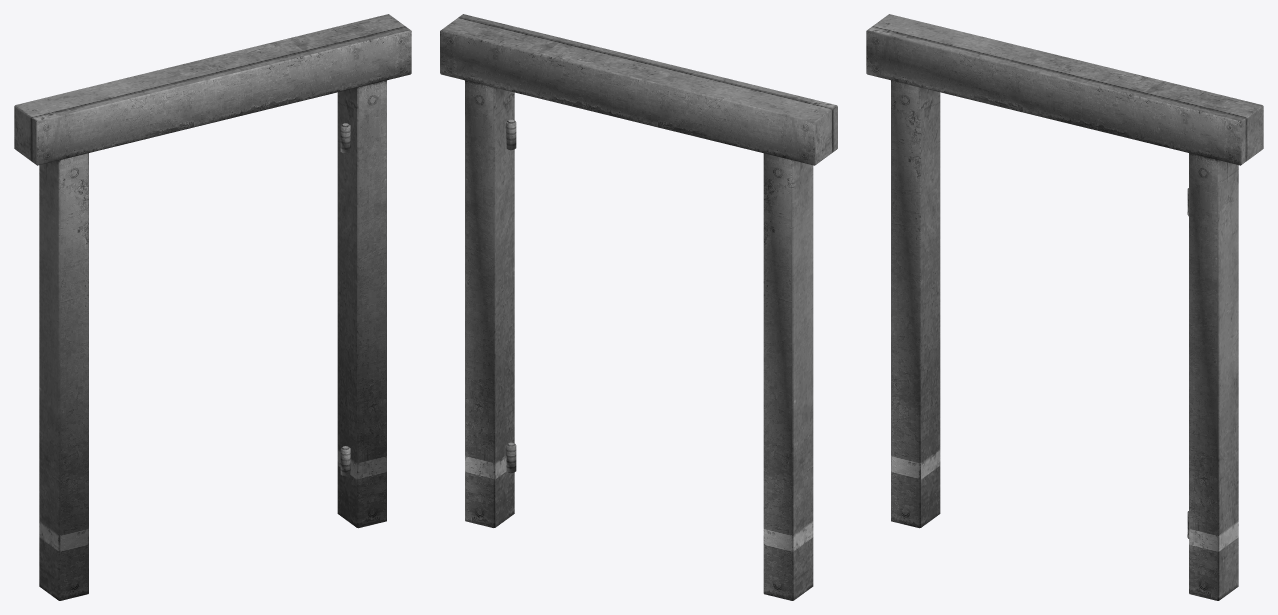
File: swingdoor_metal_flesher_frame.DAE
3 renders of one model, left to right at view 1: azimuth 30°, elevation 25°; view 2: azimuth 150°, elevation 25°; view 3: azimuth 330°, elevation 25°, orthographic.
Parts seen in each view (by area): view 1: swingdoor_metal_flesher_frame; view 2: swingdoor_metal_flesher_frame; view 3: swingdoor_metal_flesher_frame.
Part boxes in pixels (left/top/right/bottom): swingdoor_metal_flesher_frame: left=14, top=14, right=411, bottom=600; swingdoor_metal_flesher_frame: left=440, top=14, right=837, bottom=600; swingdoor_metal_flesher_frame: left=866, top=14, right=1263, bottom=600.
Bounding box in the file's own units: 2.45 × 0.2633 × 3.03.
